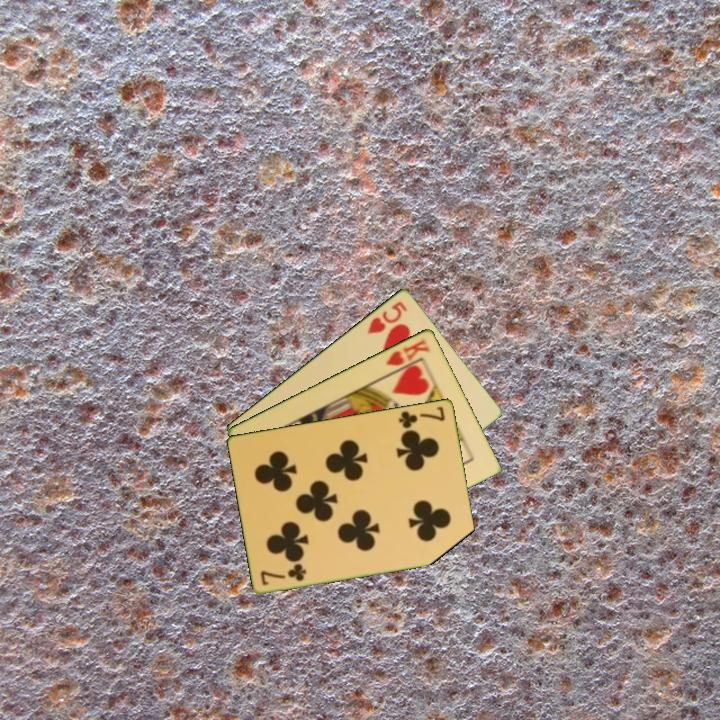5h: (364, 297, 410, 337)
7c: (395, 403, 448, 431), (257, 560, 309, 588)
Kh: (383, 334, 432, 377)
